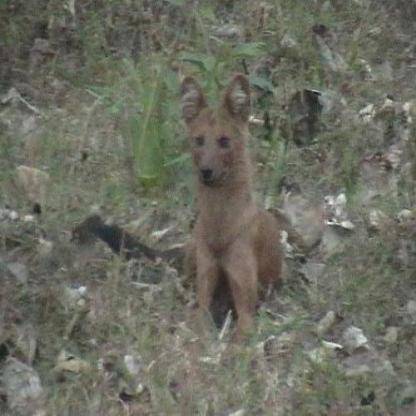dhole: (90, 75, 284, 333)
